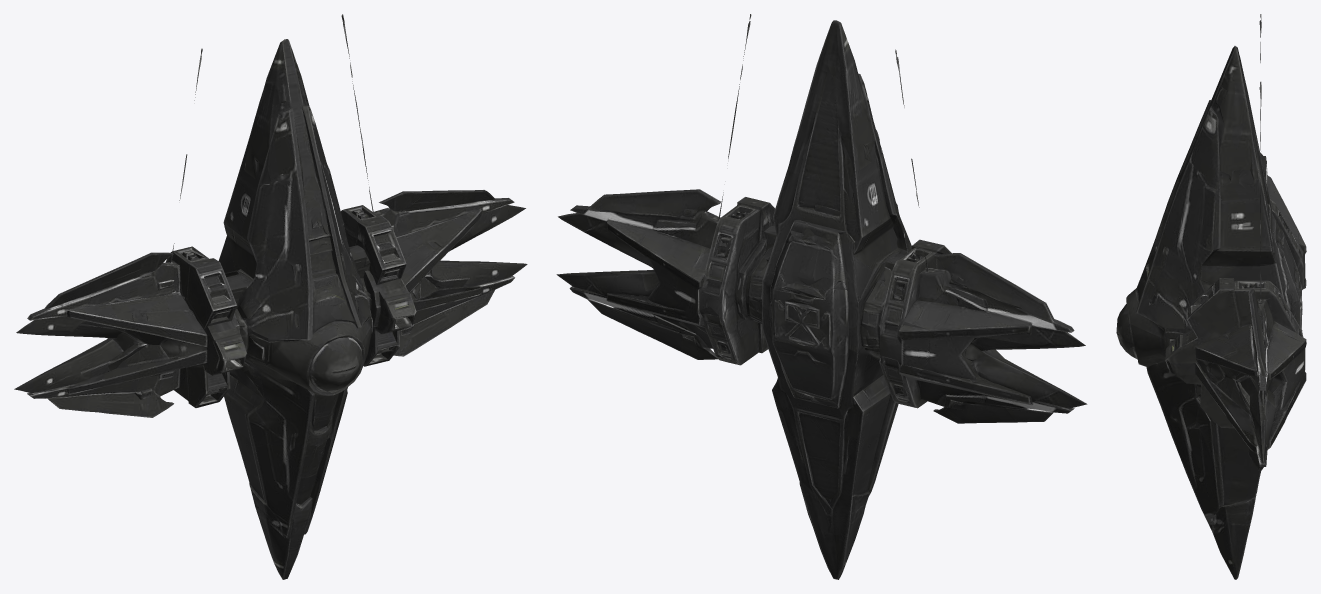
Rendered from enemy-iris-fortress.glb.
The picture shows the model from 3 angles, left to right: view 1: azimuth 30°, elevation 25°; view 2: azimuth 150°, elevation 25°; view 3: azimuth 270°, elevation 25°; orthographic projection. The views are drawn at different scales.
Size of the model in its own units: 1.89 by 1.9 by 0.6139.
1 material, 1 textured.
